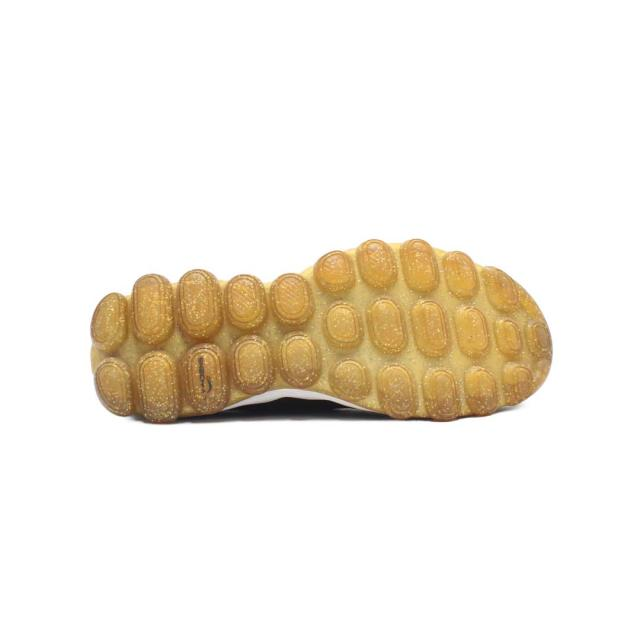outersole: (85, 235, 560, 422)
